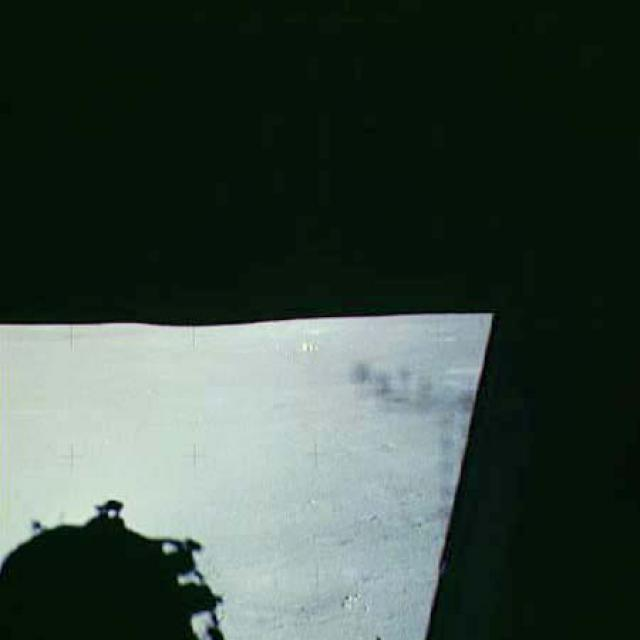crater: (218, 552, 374, 623)
